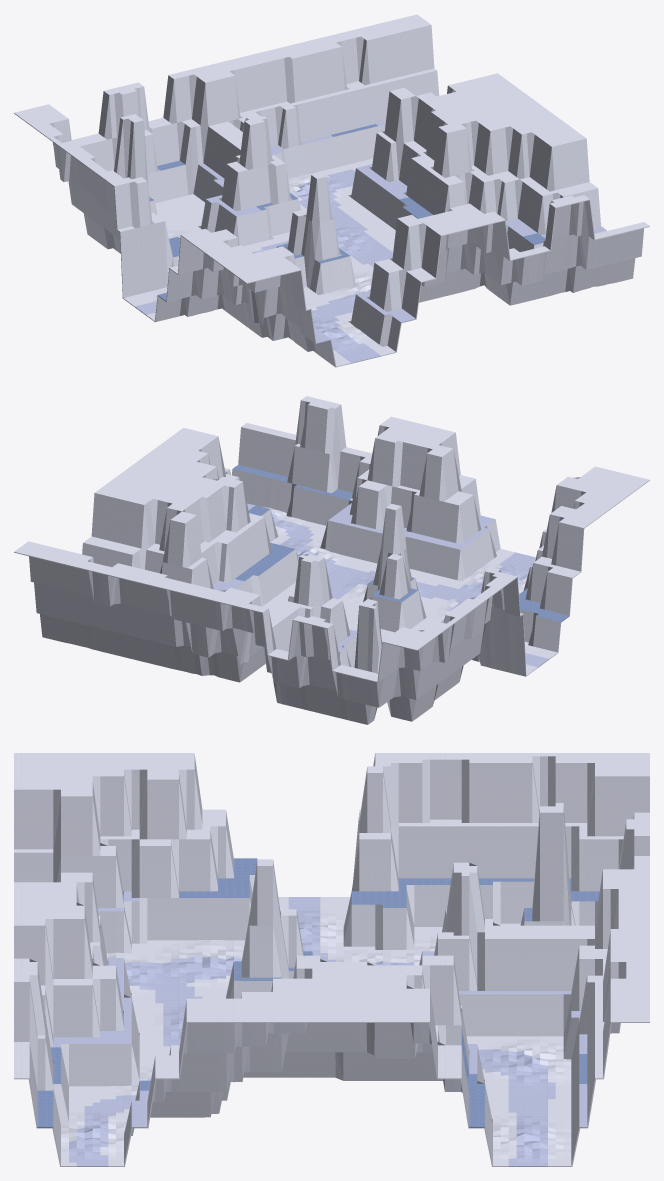
Rendered from stage_iceMountain.fbx.
3 renders of one model, top to bottom at view 1: azimuth 30°, elevation 25°; view 2: azimuth 150°, elevation 25°; view 3: azimuth 270°, elevation 25°, orthographic. The views are drawn at different scales.
Visible parts, largest first — view 1: stage_ice; view 2: stage_ice; view 3: stage_ice.
Boxes of the visible parts, <box> form: stage_ice: <box>14,14,649,367</box>; stage_ice: <box>14,396,649,724</box>; stage_ice: <box>14,753,649,1166</box>.
Bounding box in the file's own units: 16000 × 4034 × 16000.
